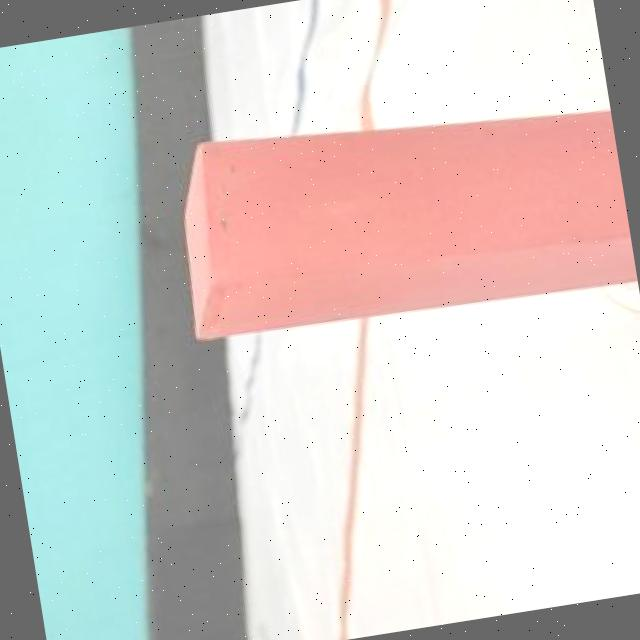redbox: (162, 77, 637, 348)
